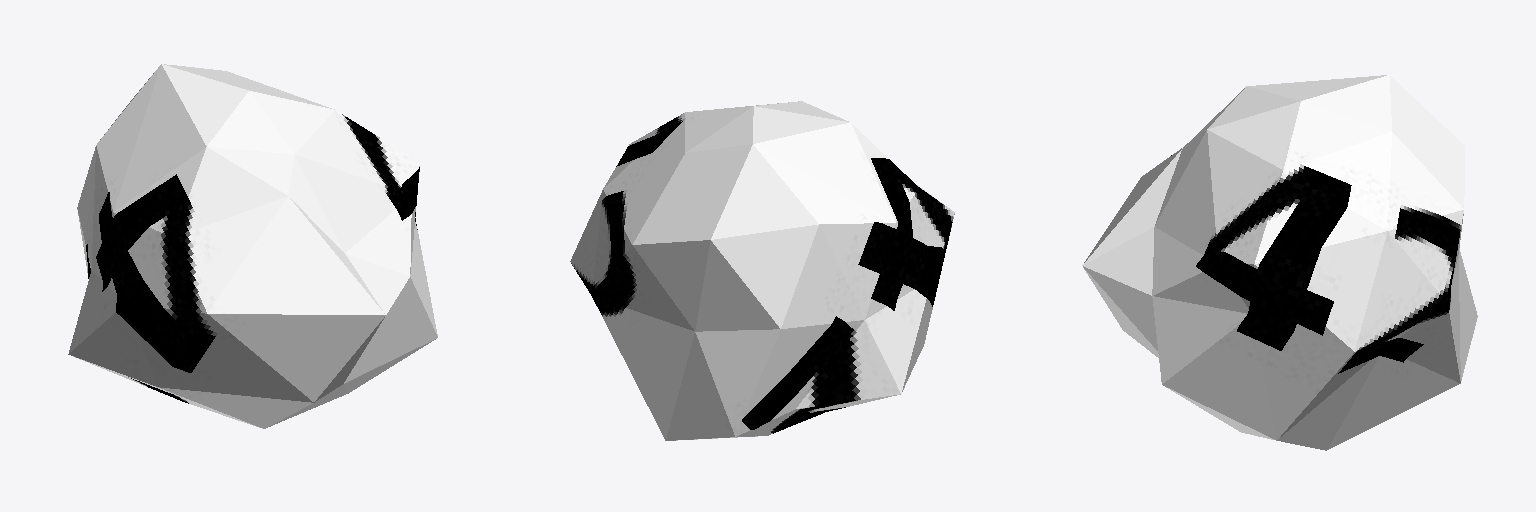
3 views of the same model, side by side, from view 1: azimuth 30°, elevation 25°; view 2: azimuth 150°, elevation 25°; view 3: azimuth 270°, elevation 25° (orthographic).
Visible parts, largest first — view 1: Icosphere; view 2: Icosphere; view 3: Icosphere.
Part boxes in pixels (bbox=[...]): Icosphere: bbox=[68, 64, 437, 428]; Icosphere: bbox=[570, 101, 954, 440]; Icosphere: bbox=[1082, 75, 1477, 450].
Size of the model in its own units: 5.23 by 5.03 by 5.58.
Materials: 1 (1 with a texture image).